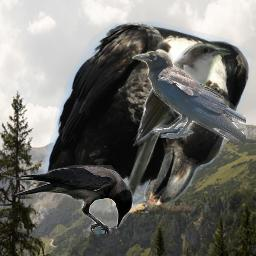Crow: (25, 18, 253, 220), (132, 51, 246, 143), (14, 165, 133, 234)
Cuckoo: (120, 41, 231, 207)
